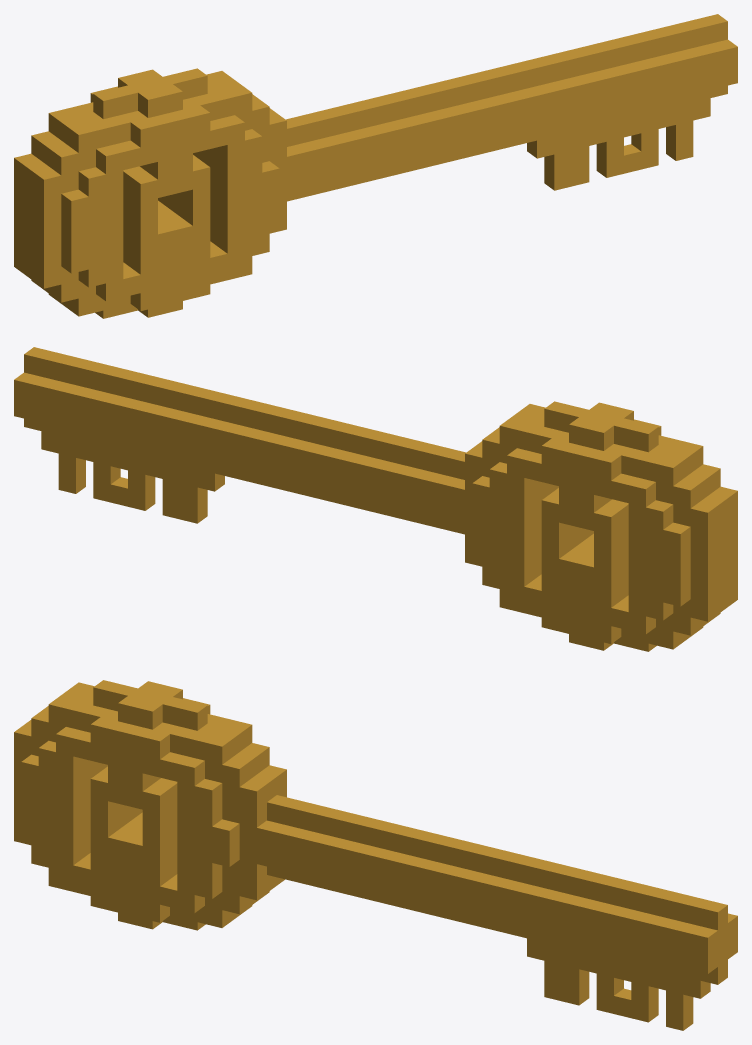
The model's file is key.obj.
3 views of the same model, one above another, from view 1: azimuth 30°, elevation 25°; view 2: azimuth 150°, elevation 25°; view 3: azimuth 330°, elevation 25° (orthographic).
Size of the model in its own units: 4 by 1.2 by 0.5.
1 material, 1 textured.
